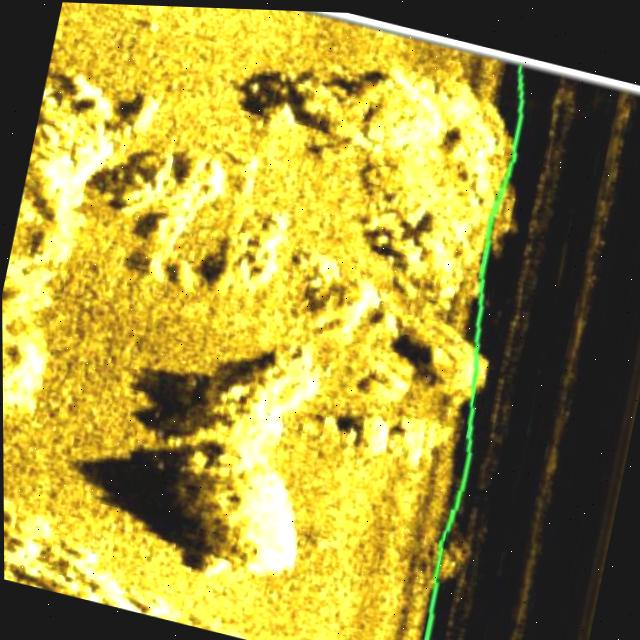bedrock group: (0, 0, 538, 640)
